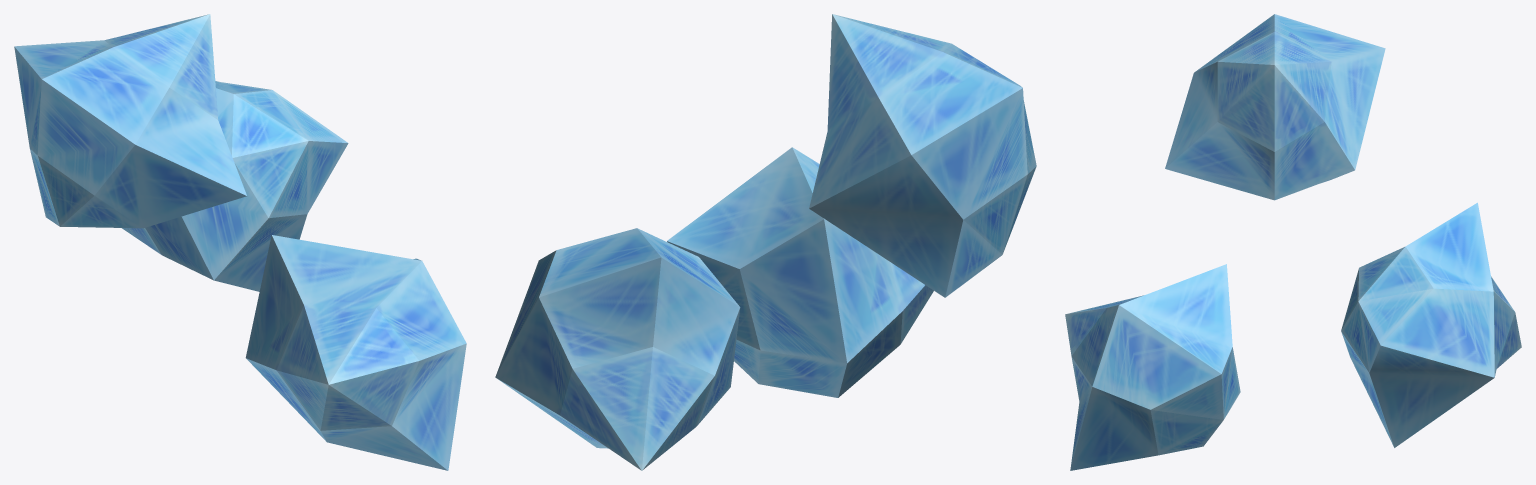
File: TDProjectileSlow2.fbx
3 views of the same model, side by side, from view 1: azimuth 30°, elevation 25°; view 2: azimuth 150°, elevation 25°; view 3: azimuth 270°, elevation 25° (orthographic). The views are drawn at different scales.
Visible parts, largest first — view 1: polySurface44; view 2: polySurface44; view 3: polySurface44.
Boxes of the visible parts, x1=… form: polySurface44: x1=14, y1=14, x2=466, y2=470; polySurface44: x1=495, y1=14, x2=1036, y2=470; polySurface44: x1=1065, y1=14, x2=1521, y2=470.
Bounding box in the file's own units: 13.58 × 14.05 × 16.45.
